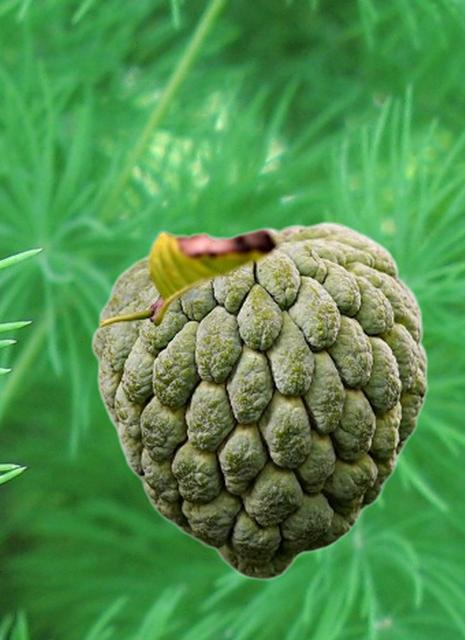atis: (90, 220, 427, 579)
